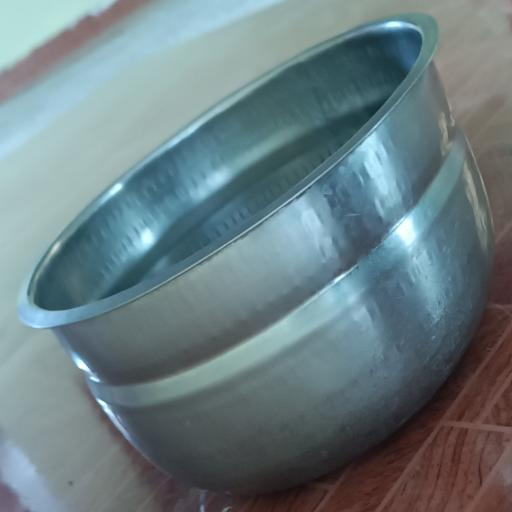vessel: (19, 15, 493, 493)
